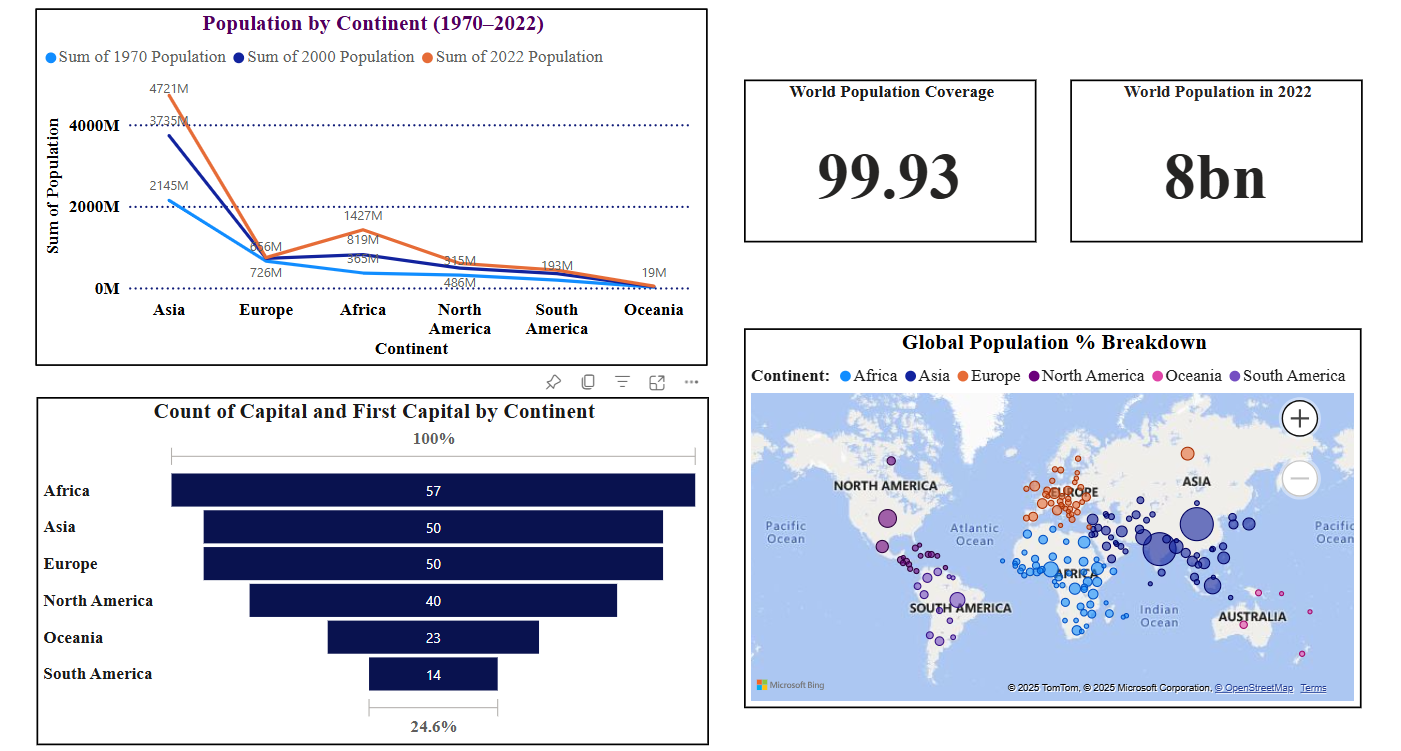

The dashboard page shown, as its layout file describes it:
{"tool":"powerbi","page":{"name":"Page 1","canvas":[1280,720],"ordinal":0},"visuals":[{"type":"lineChart","title":"Population by Continent (1970–2022)","fields":{"Y":["Sum(world_population.1970 Population)","Sum(world_population.2000 Population)","Sum(world_population.2022 Population)"],"Category":["world_population.Continent"]},"box":[34.3,11,627.1,333.4],"z":0},{"type":"map","title":"Global Population % Breakdown","fields":{"Category":["world_population.Country/Territory"],"Series":["world_population.Continent"],"Size":["Sum(world_population.World Population Percentage)"]},"box":[695.4,308.5,576,354.5],"z":2000},{"type":"card","title":"World Population in 2022","fields":{"Values":["Sum(world_population.2022 Population)"]},"box":[998.9,77.1,272.4,151.8],"z":3000},{"type":"card","title":"World Population Coverage","fields":{"Values":["Sum(world_population.World Population Percentage)"]},"box":[695.4,77.1,272.4,151.8],"z":4000},{"type":"funnel","fields":{"Category":["world_population.Continent"],"Y":["CountNonNull(world_population.Capital)"]},"box":[34.8,373.2,627,324.7],"z":5000}]}

Visuals, with their boxes on the page's 1280x720 design canvas (x1, y1, x2, y2). These are canvas units, not pixel positions in the 1401x751 screenshot, which may show the page scaled, cropped or inside an application window:
"Population by Continent (1970–2022)" lineChart: <region>34, 11, 661, 344</region>
"Global Population % Breakdown" map: <region>695, 308, 1271, 663</region>
"World Population in 2022" card: <region>999, 77, 1271, 229</region>
"World Population Coverage" card: <region>695, 77, 968, 229</region>
funnel - world_population.Continent x CountNonNull(world_population.Capital): <region>35, 373, 662, 698</region>
